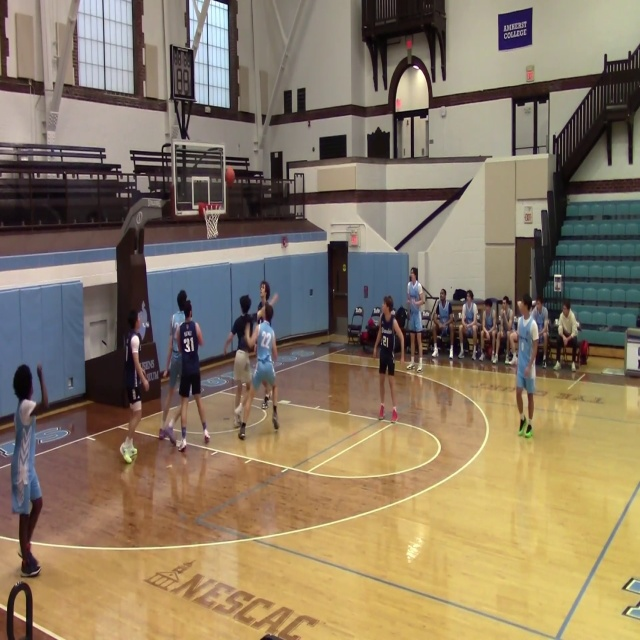Basketball: (224, 167, 235, 186), (509, 331, 518, 342)
